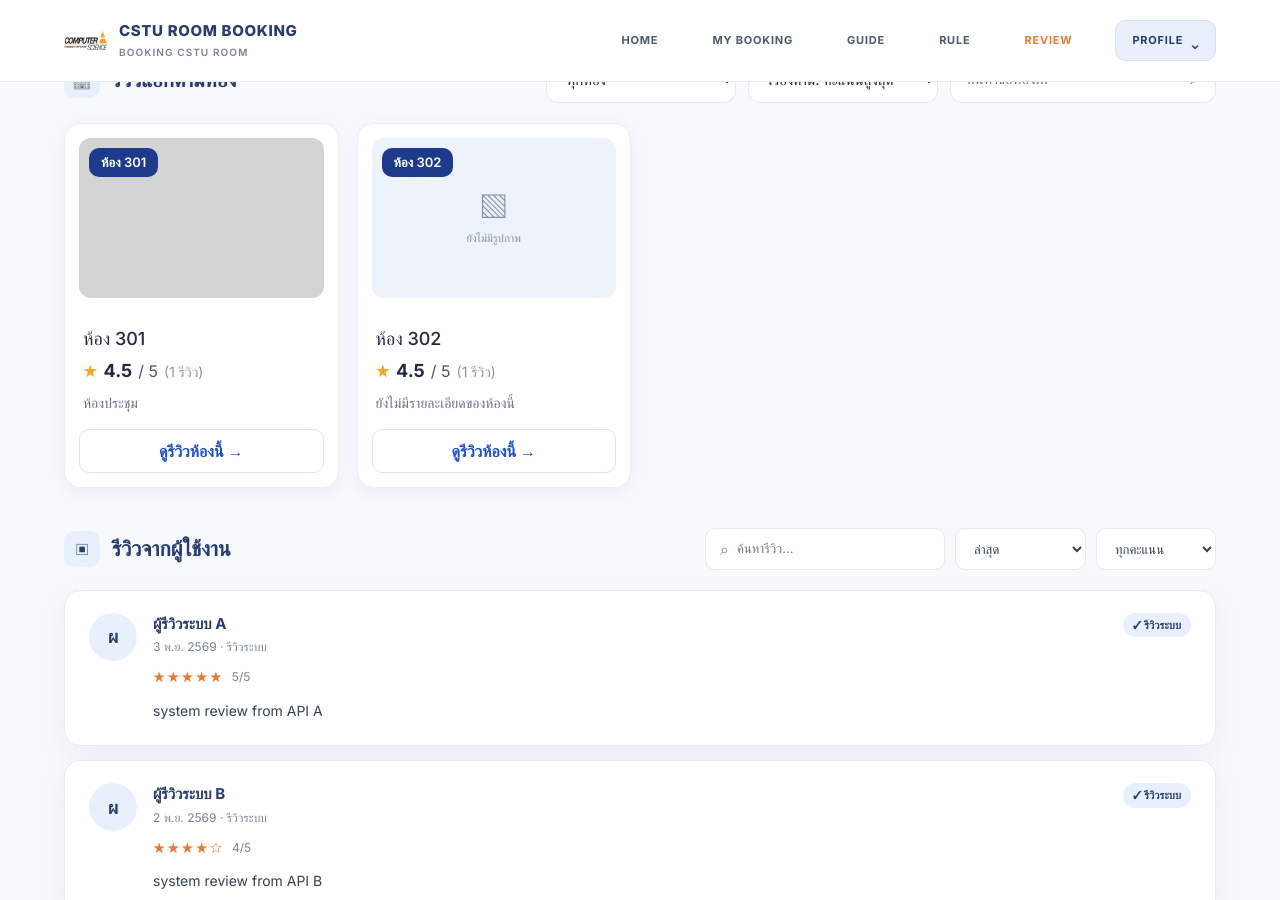
Test: Review page room reviews and feedback form › shows room-specific reviews and reviewer names from the room reviews API only
(page scrolled)
Click the button "ดูรีวิวห้องนี้ →" below "ห้องประชุม". click: x=201, y=451
box: [79, 429, 324, 473]
(page scrolled)
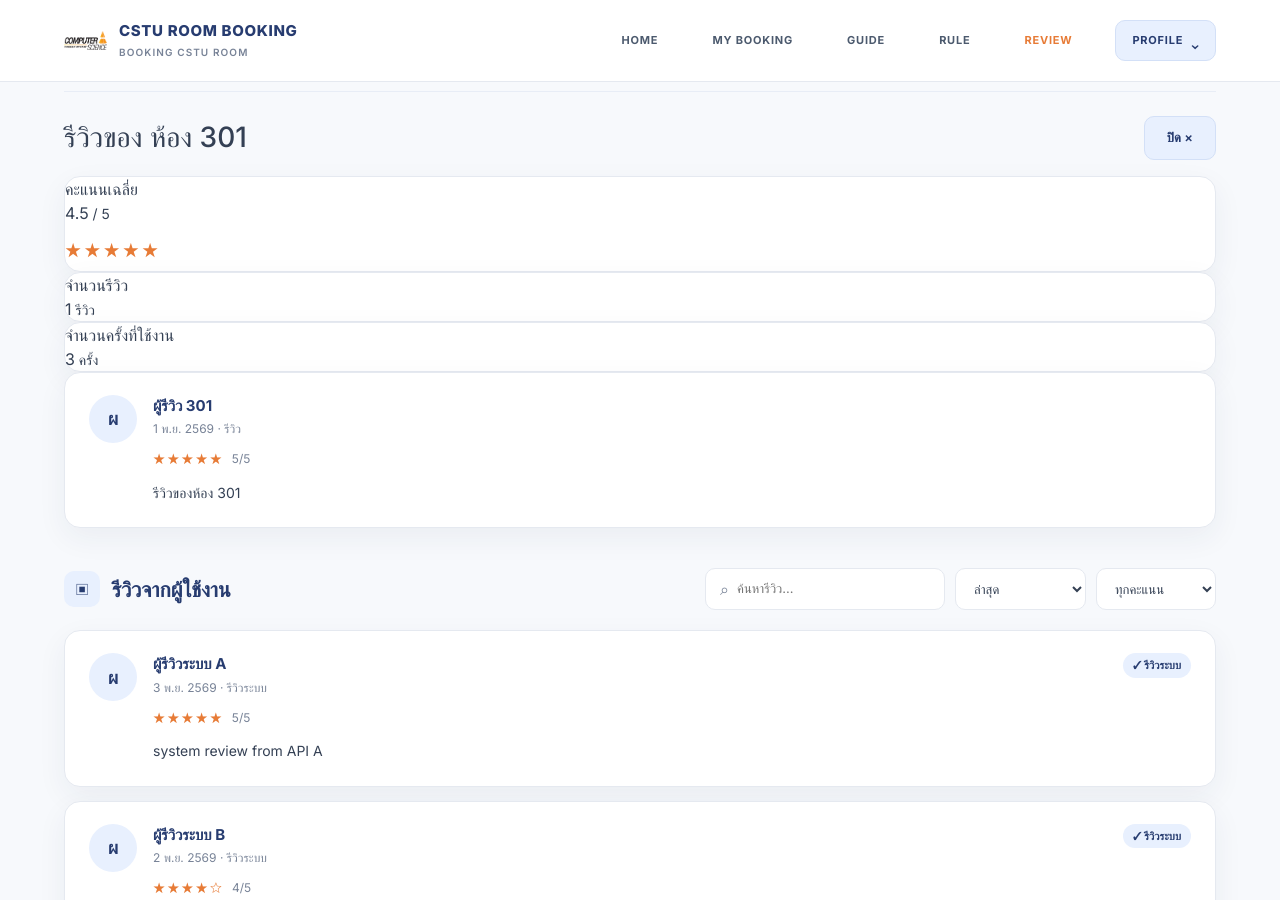
Expected: the element with id "roomReviewDetail" does not show "system review from API"
Expected: the text "รีวิวของห้อง 301" is shown, [153, 484, 240, 501]
Expected: the text "ผู้รีวิว 301" is shown, [153, 395, 212, 417]
